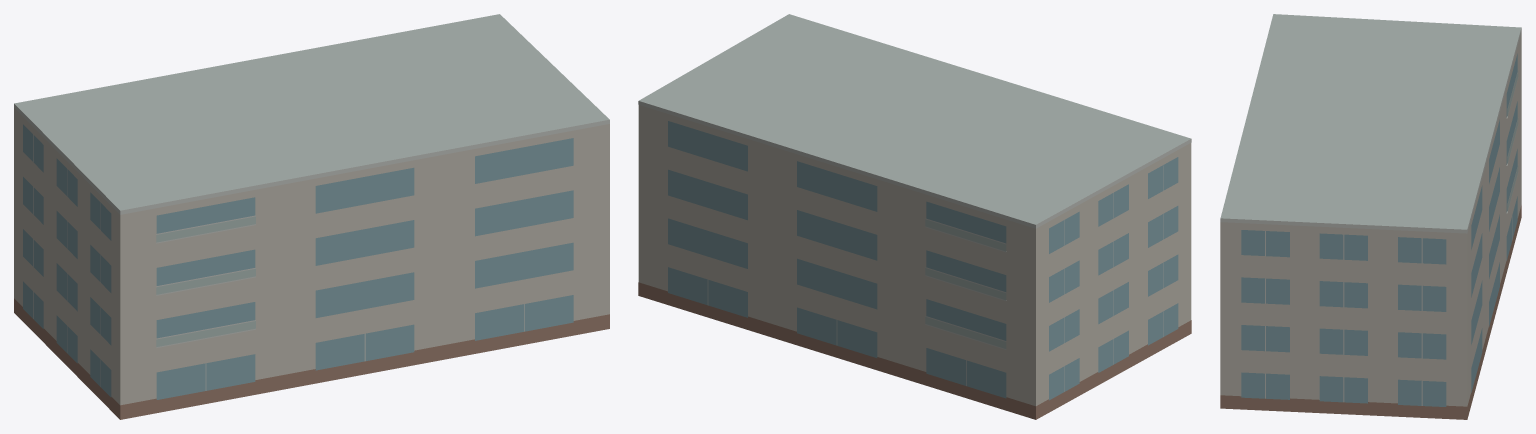
File: survey-upis-32976676.glb
3 renders of one model, left to right at view 1: azimuth 30°, elevation 25°; view 2: azimuth 150°, elevation 25°; view 3: azimuth 270°, elevation 25°, orthographic. The views are drawn at different scales.
Visible parts, largest first — view 1: survey-upis-32976676.tmp; view 2: survey-upis-32976676.tmp; view 3: survey-upis-32976676.tmp.
Boxes of the visible parts, x1=… form: survey-upis-32976676.tmp: x1=14, y1=14, x2=609, y2=419; survey-upis-32976676.tmp: x1=638, y1=14, x2=1191, y2=419; survey-upis-32976676.tmp: x1=1220, y1=14, x2=1521, y2=419.
Bounding box in the file's own units: 29.69 × 12.2 × 17.51.
